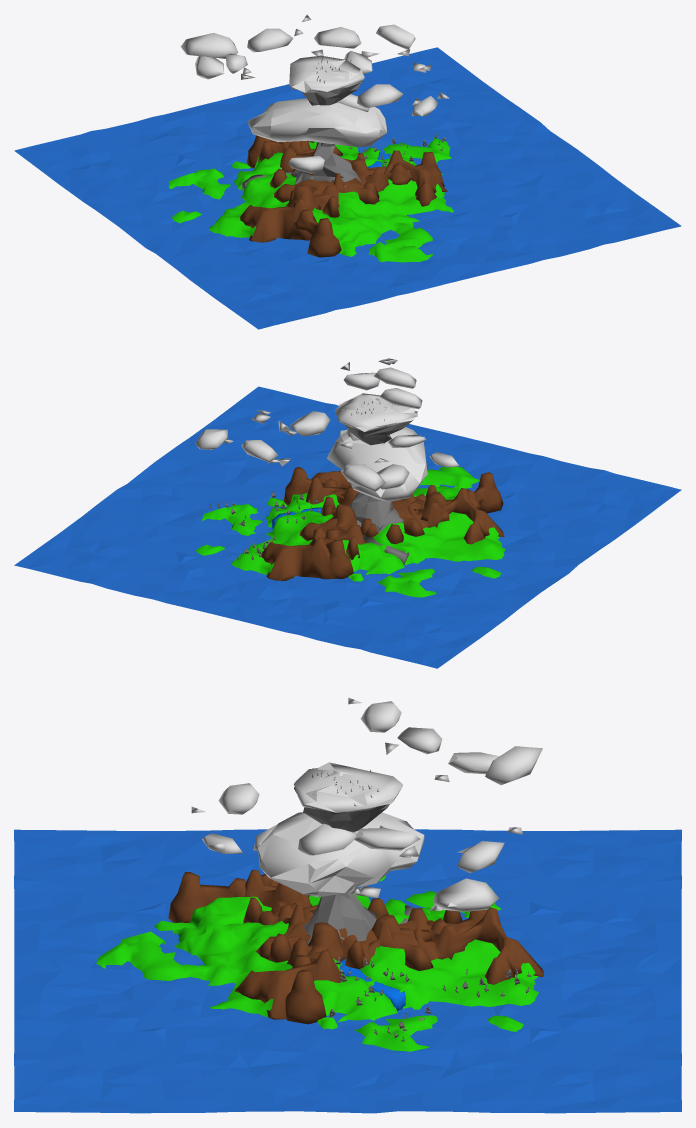
The model's file is object_hitbox.dae.
3 views of the same model, one above another, from view 1: azimuth 30°, elevation 25°; view 2: azimuth 150°, elevation 25°; view 3: azimuth 270°, elevation 25° (orthographic). The views are drawn at different scales.
Parts seen in each view (by area): view 1: Water, Clouds, Grass, Plane007_001, Plane007; view 2: Water, Clouds, Grass, Plane007_001, Plane007; view 3: Water, Clouds, Grass, Plane007_001, Plane007, River.
Boxes of the visible parts, x1=… form: Water: x1=14, y1=47, x2=681, y2=329; Clouds: x1=180, y1=14, x2=449, y2=173; Grass: x1=168, y1=137, x2=453, y2=262; Plane007_001: x1=240, y1=135, x2=447, y2=257; Plane007: x1=242, y1=57, x2=445, y2=189; Water: x1=14, y1=386, x2=681, y2=668; Clouds: x1=195, y1=358, x2=459, y2=501; Grass: x1=195, y1=466, x2=505, y2=597; Plane007_001: x1=261, y1=467, x2=504, y2=581; Plane007: x1=209, y1=401, x2=417, y2=565; Water: x1=14, y1=829, x2=681, y2=1113; Clouds: x1=191, y1=697, x2=542, y2=911; Grass: x1=96, y1=875, x2=538, y2=1051; Plane007_001: x1=168, y1=869, x2=543, y2=1024; Plane007: x1=294, y1=768, x2=531, y2=1041; River: x1=339, y1=959, x2=405, y2=1010.
Size of the model in its own units: 25.41 by 25.42 by 13.22.
